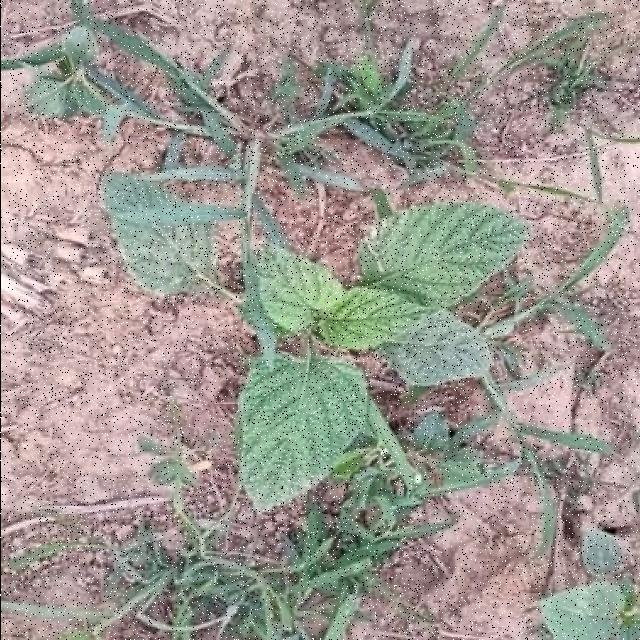weed: (238, 204, 525, 507), (253, 202, 527, 385), (238, 351, 367, 509), (102, 173, 210, 293), (102, 175, 210, 291), (541, 580, 640, 640)
